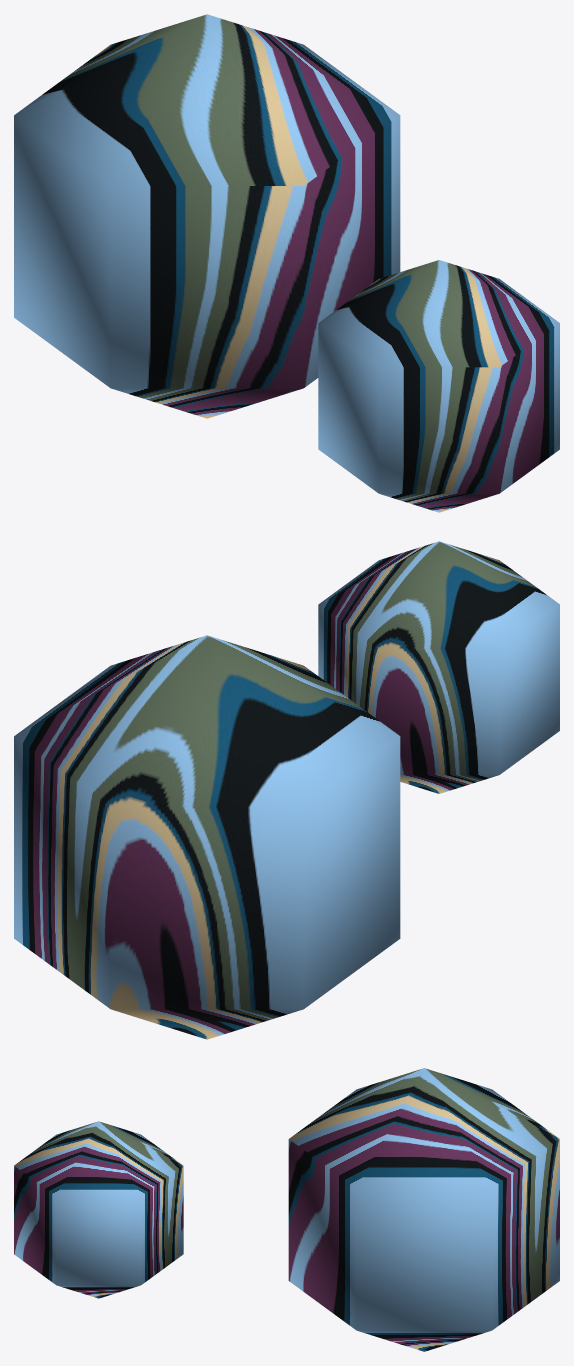
The model's file is milkywaymarble_selection.DAE.
3 views of the same model, one above another, from view 1: azimuth 30°, elevation 25°; view 2: azimuth 150°, elevation 25°; view 3: azimuth 270°, elevation 25° (orthographic). The views are drawn at different scales.
Visible parts, largest first — view 1: Shooter_E, Standard_E; view 2: Shooter_E, Standard_E; view 3: Shooter_E, Standard_E.
Boxes of the visible parts, bbox=[...] form: Shooter_E: bbox=[14, 14, 400, 418]; Standard_E: bbox=[318, 260, 559, 512]; Shooter_E: bbox=[14, 635, 400, 1039]; Standard_E: bbox=[318, 541, 559, 793]; Shooter_E: bbox=[288, 1068, 559, 1351]; Standard_E: bbox=[14, 1121, 183, 1298].
Bounding box in the file's own units: 0.0381 × 0.0886 × 0.0508.
Materials: 1 (1 with a texture image).
